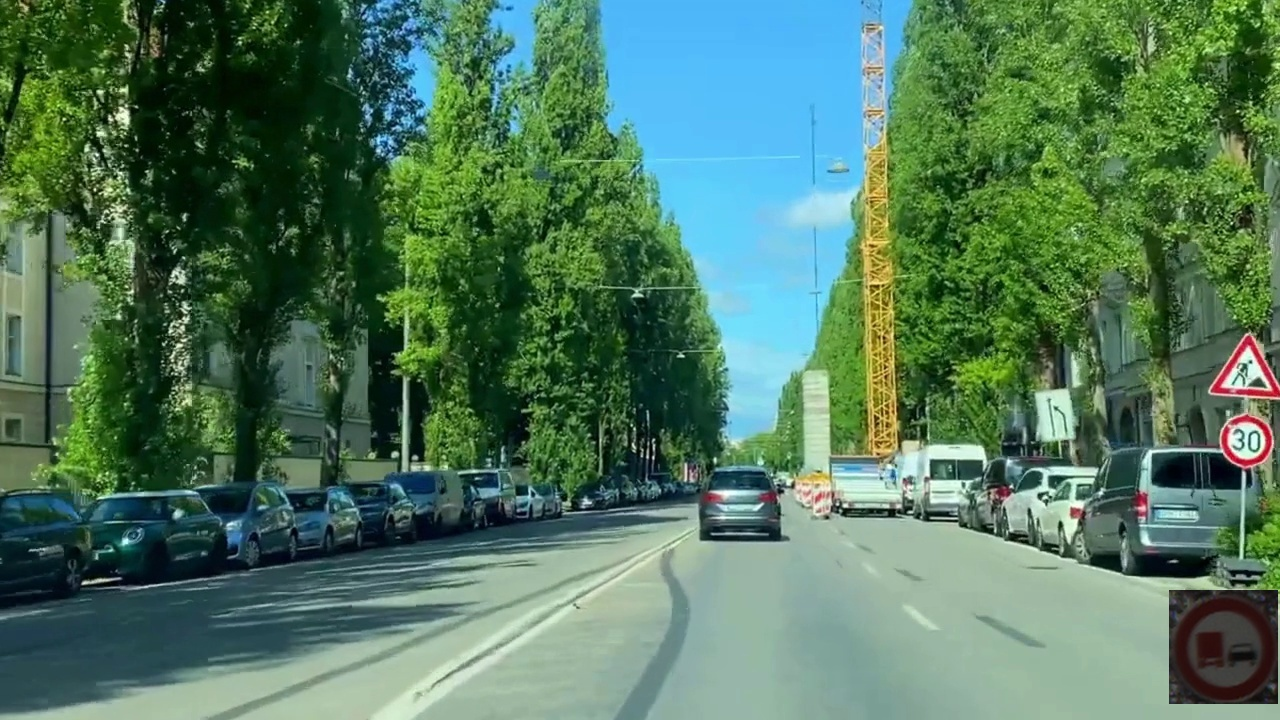No pass >3.5t: (1169, 590, 1278, 704)
